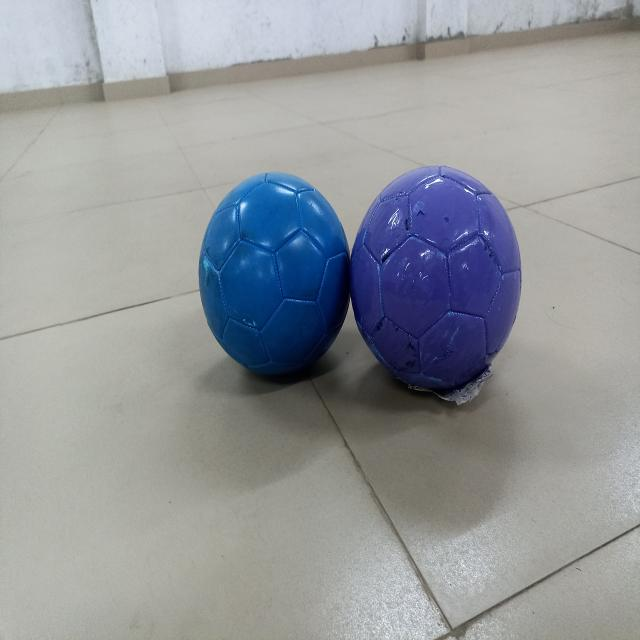blue_ball: (203, 172, 348, 377)
purple_ball: (354, 161, 522, 391)
